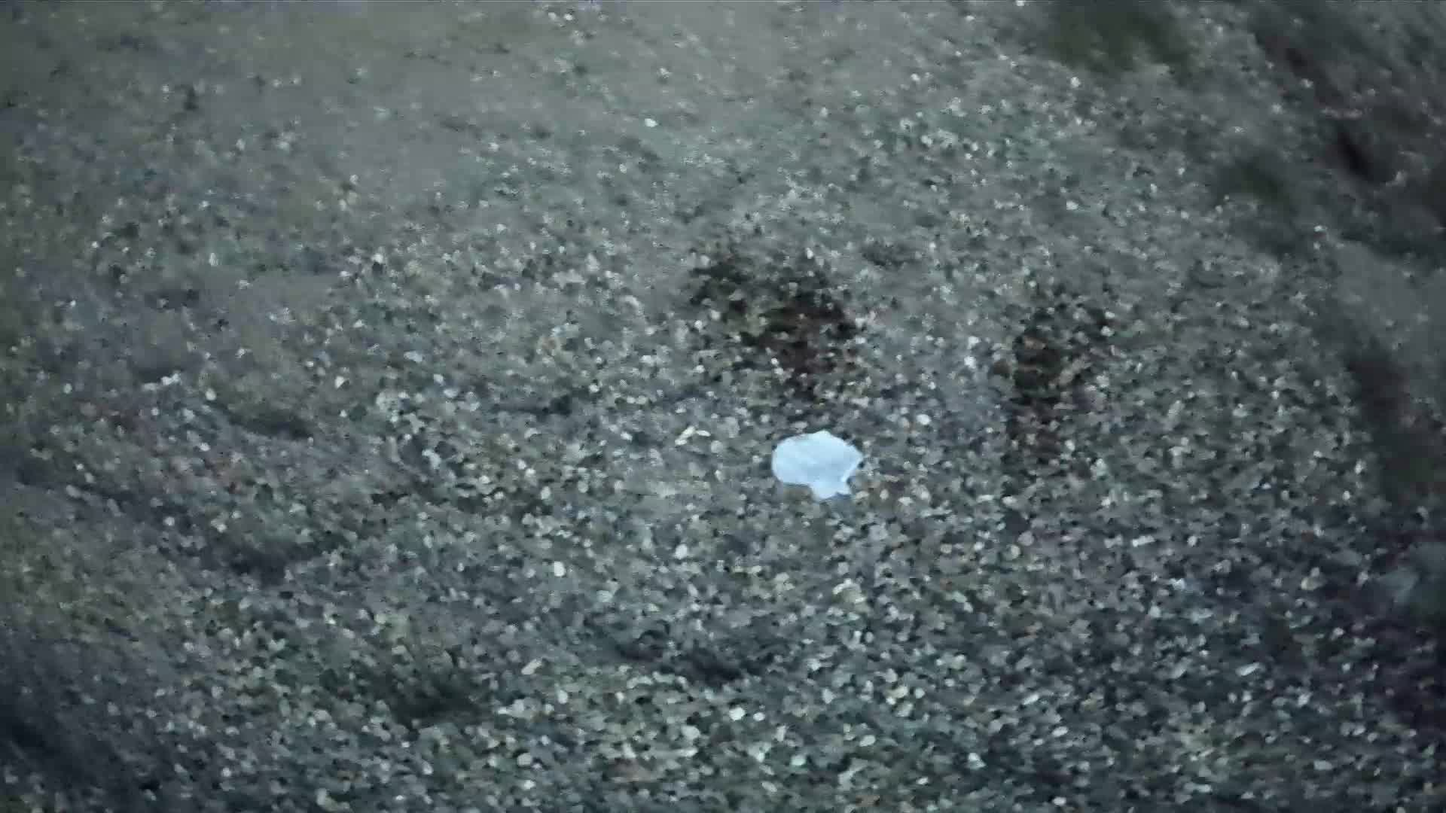Target: (769, 427, 867, 500)
